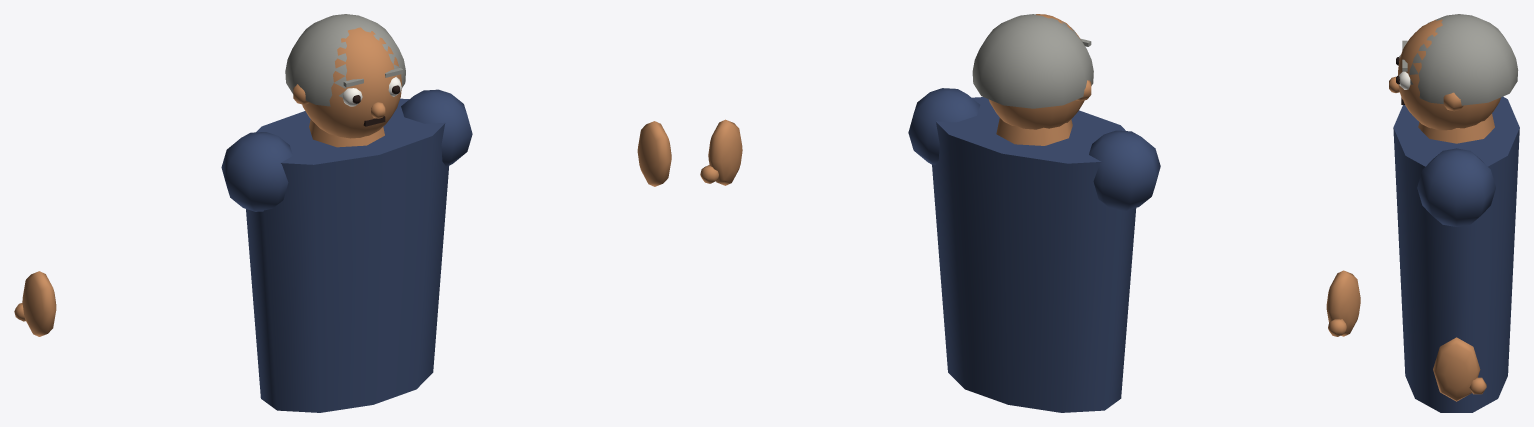
The model's file is avatar-indigo.glb.
The picture shows the model from 3 angles, left to right: view 1: azimuth 30°, elevation 25°; view 2: azimuth 150°, elevation 25°; view 3: azimuth 270°, elevation 25°; orthographic projection. The views are drawn at different scales.
Parts seen in each view (by area): view 1: Torso, Skull, Hair, ShoulderR, ShoulderL, HandL, HandR, Collar; view 2: Torso, Hair, ShoulderR, ShoulderL, Skull, HandL, HandR, Collar; view 3: Torso, Hair, ShoulderL, Skull, HandL, Collar, EarL, HandL_Thumb, EyeL.
Part boxes in pixels (box(x1,y1,x2,y2)): Torso: box(246, 98, 449, 412); Skull: box(302, 27, 402, 138); Hair: box(285, 14, 405, 106); ShoulderR: box(221, 132, 292, 211); ShoulderL: box(401, 89, 472, 166); HandL: box(637, 121, 671, 186); HandR: box(22, 271, 56, 336); Collar: box(309, 119, 384, 147); Torso: box(932, 97, 1136, 412); Hair: box(972, 14, 1093, 108); ShoulderR: box(1089, 130, 1160, 210); ShoulderL: box(908, 88, 980, 164); Skull: box(989, 14, 1084, 129); HandL: box(708, 119, 742, 185); HandR: box(1326, 270, 1360, 336); Collar: box(996, 118, 1072, 145); Torso: box(1393, 96, 1519, 412); Hair: box(1409, 14, 1518, 105); ShoulderL: box(1417, 148, 1495, 226); Skull: box(1398, 19, 1500, 130); HandL: box(1433, 337, 1480, 401); Collar: box(1418, 114, 1494, 143); EarL: box(1443, 92, 1463, 111); HandL_Thumb: box(1469, 377, 1486, 394); EyeL: box(1399, 71, 1410, 89).
Size of the model in its own units: 1.37 by 0.746 by 0.2482.
